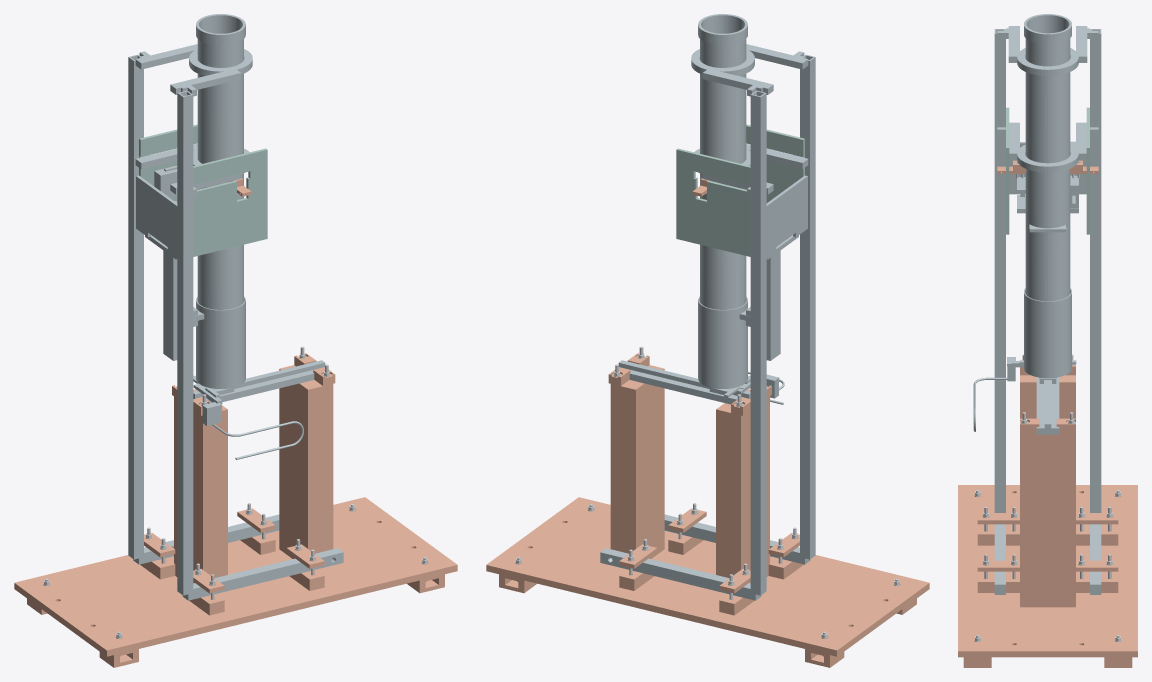
File: BM1_R3_fixture.glb
3 renders of one model, left to right at view 1: azimuth 30°, elevation 25°; view 2: azimuth 150°, elevation 25°; view 3: azimuth 270°, elevation 25°, orthographic. The views are drawn at different scales.
Parts seen in each view (by area): view 1: PRT-0602-R3-BASE, PRT-0703-R3-TUBE-1, PRT-0602-A__R, PRT-0601, PRT-0602-A__L, PRT-0602-R3-WALL--1, PRT-0703-R3-TUBE-0, PRT-0606, PRT-0602-G, PRT-0602-B__R, PRT-0607-A, PRT-0602-R3-WALL-1 (+6 smaller); view 2: PRT-0602-R3-BASE, PRT-0703-R3-TUBE-1, PRT-0602-A__L, PRT-0601, PRT-0602-A__R, PRT-0602-R3-WALL-1, PRT-0703-R3-TUBE-0, PRT-0606, PRT-0602-G, PRT-0602-B__L, PRT-0602-R3-WALL--1, PRT-0607-A (+6 smaller); view 3: PRT-0602-R3-BASE, PRT-0601, PRT-0703-R3-TUBE-1, PRT-0602-A__L, PRT-0602-A__R, PRT-0606, PRT-0601-A, PRT-0703-R3-TUBE-0, PRT-0703-A, PRT-0602-B__L, PRT-0602-B__R, PRT-0602-D__410 (+22 smaller).
Part boxes in pixels (x1,y1,x2,y2): PRT-0602-R3-BASE: (14,497,457,656); PRT-0703-R3-TUBE-1: (279,385,333,553); PRT-0602-A__R: (177,90,193,595); PRT-0601: (197,25,243,309); PRT-0602-A__L: (128,54,143,559); PRT-0602-R3-WALL--1: (193,148,267,256); PRT-0703-R3-TUBE-0: (174,400,227,583); PRT-0606: (196,296,245,388); PRT-0602-G: (136,175,177,258); PRT-0602-B__R: (182,548,343,600); PRT-0607-A: (163,250,177,360); PRT-0602-R3-WALL-1: (139,124,197,201); PRT-0602-R3-BASE: (486,497,929,656); PRT-0703-R3-TUBE-1: (610,385,664,553); PRT-0602-A__L: (750,90,766,595); PRT-0601: (700,25,746,309); PRT-0602-A__R: (800,54,815,559); PRT-0602-R3-WALL-1: (676,148,750,256); PRT-0703-R3-TUBE-0: (716,400,769,583); PRT-0606: (698,296,747,388); PRT-0602-G: (766,175,807,258); PRT-0602-B__L: (600,548,761,600); PRT-0602-R3-WALL--1: (746,124,804,202); PRT-0607-A: (766,250,780,360); PRT-0602-R3-BASE: (958,485,1137,657); PRT-0601: (1025,25,1070,301); PRT-0703-R3-TUBE-1: (1020,437,1075,602); PRT-0602-A__L: (1090,29,1101,512); PRT-0602-A__R: (994,29,1005,512); PRT-0606: (1024,288,1071,378); PRT-0601-A: (1024,14,1071,44); PRT-0703-R3-TUBE-0: (1020,387,1075,418); PRT-0703-A: (1036,377,1059,434); PRT-0602-B__L: (1090,524,1101,594); PRT-0602-B__R: (994,524,1005,594); PRT-0602-D__410: (1017,153,1078,172).
Size of the model in its own units: 0.7 by 1.1 by 0.32.
